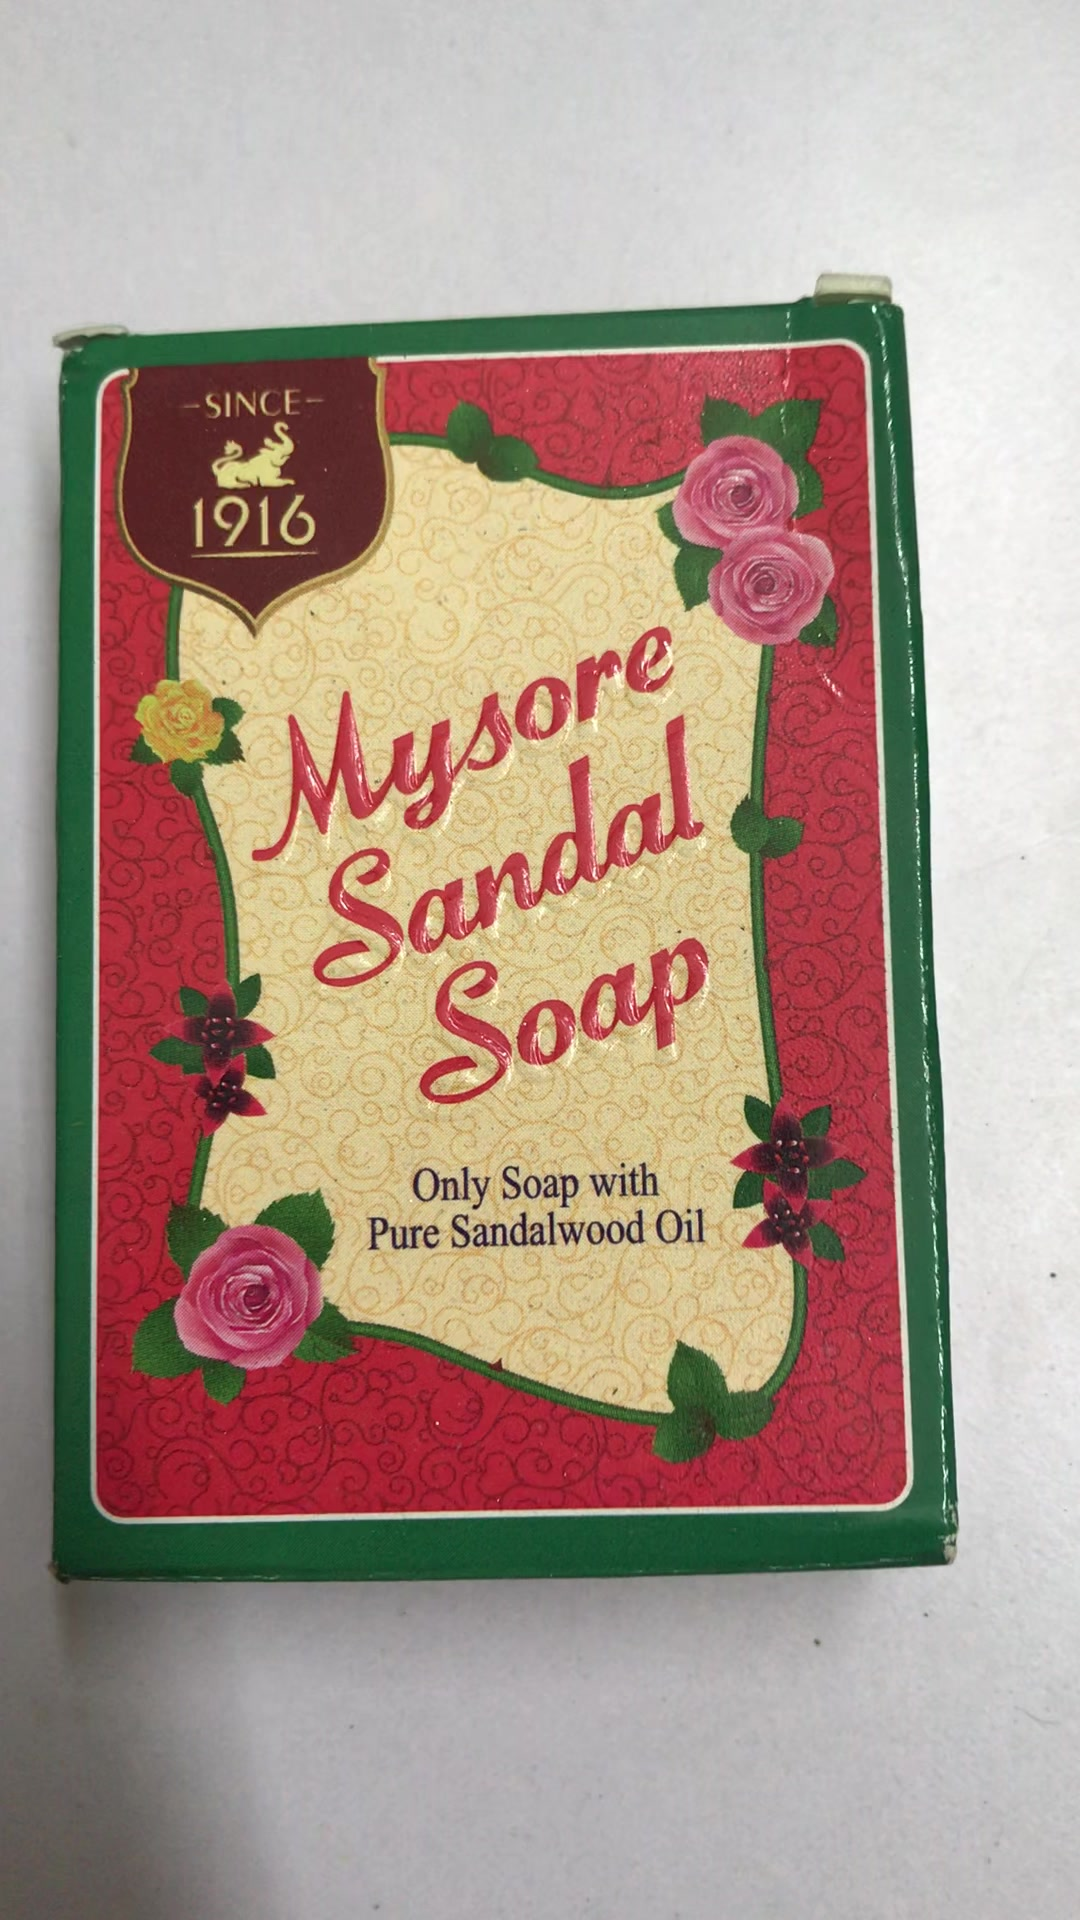mysore sandal soap: (34, 291, 968, 1567)
